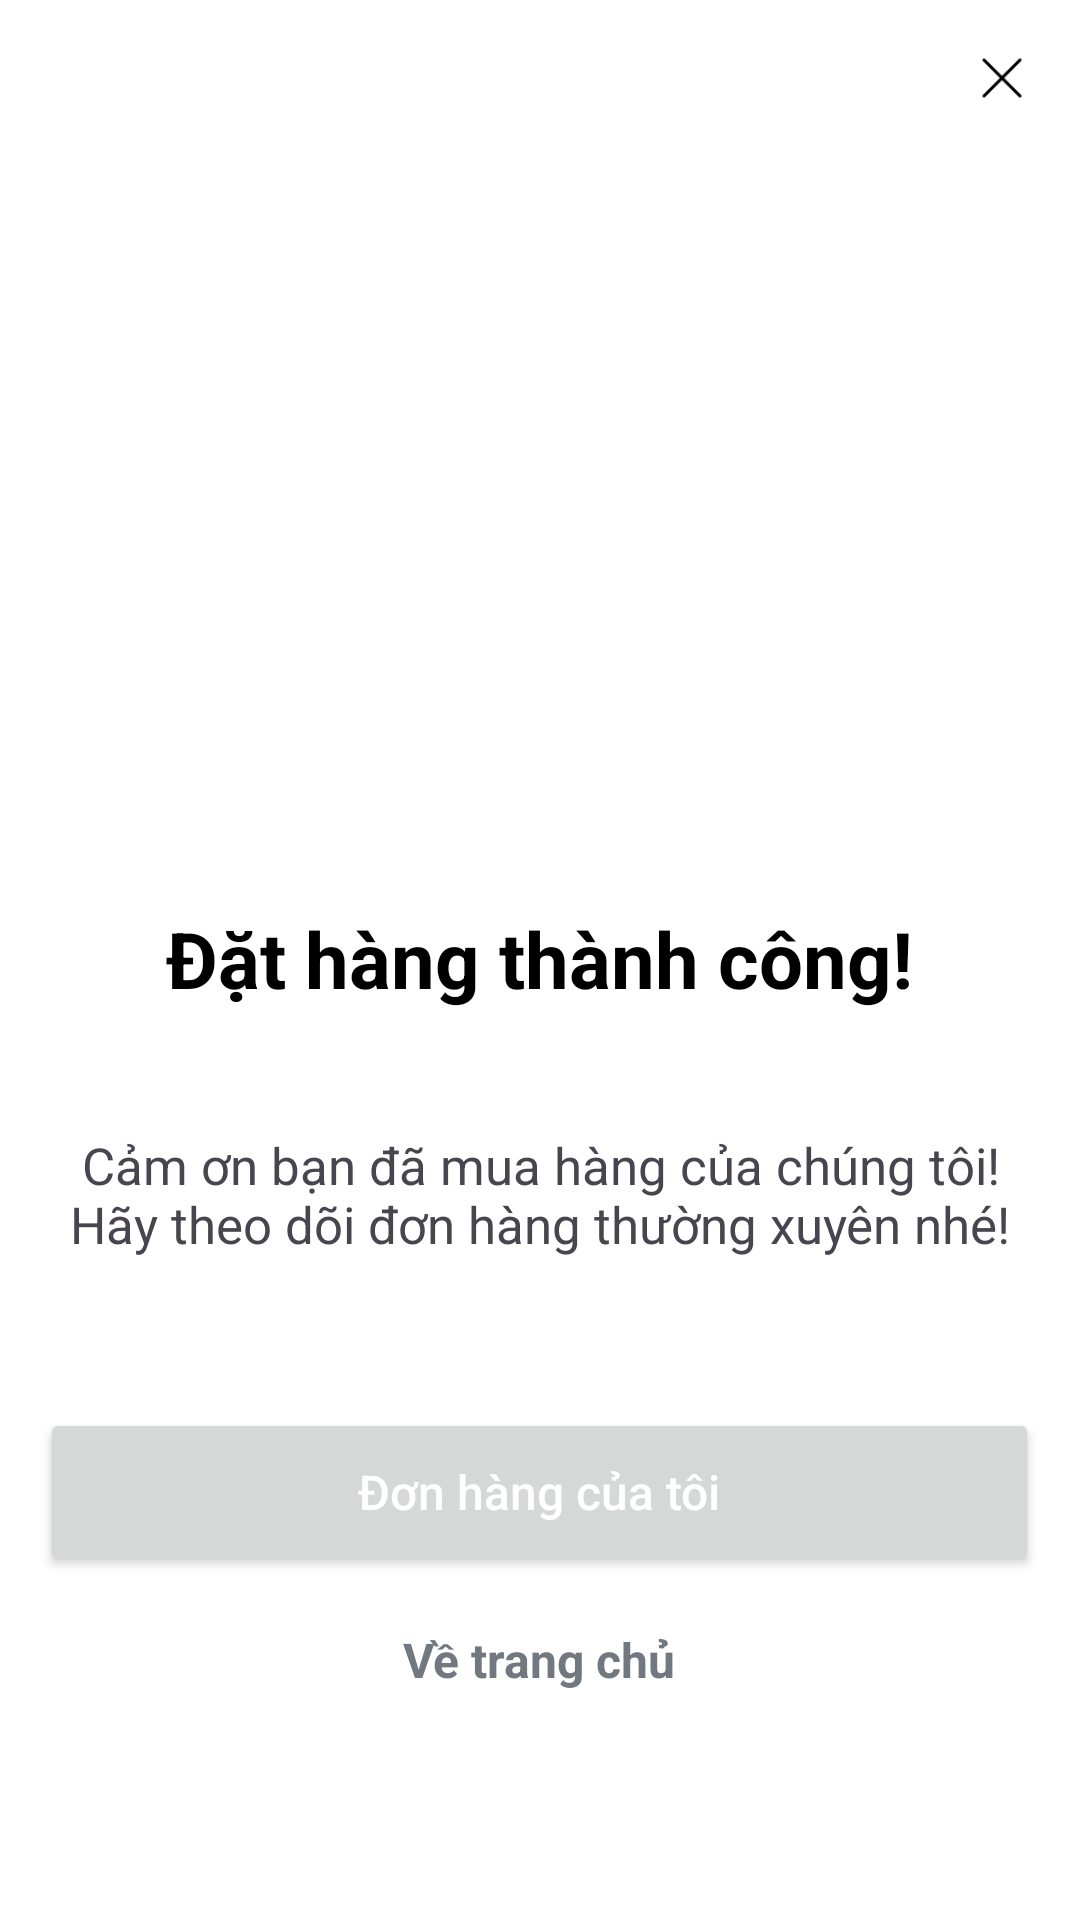

Locate icon controls on the screen. Image size 1080*1920, boxes as bbox=[x1, y1, x2, y2].
close: bbox=[982, 58, 1022, 98]
